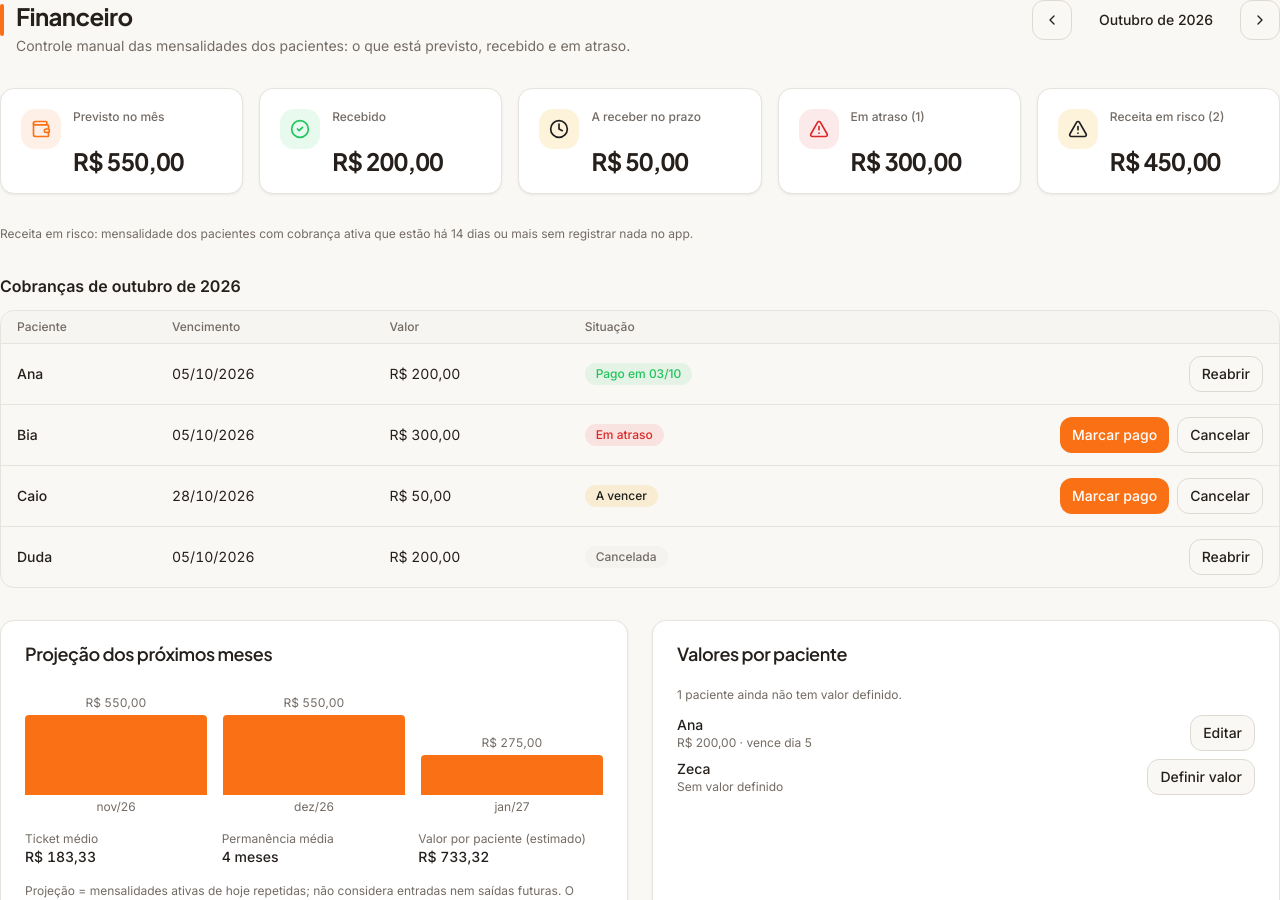
FinancePage › editar valor existente já vem preenchido
Click the button with aria-label "Editar valor de Ana" at [1223, 733], box [1190, 715, 1255, 751]
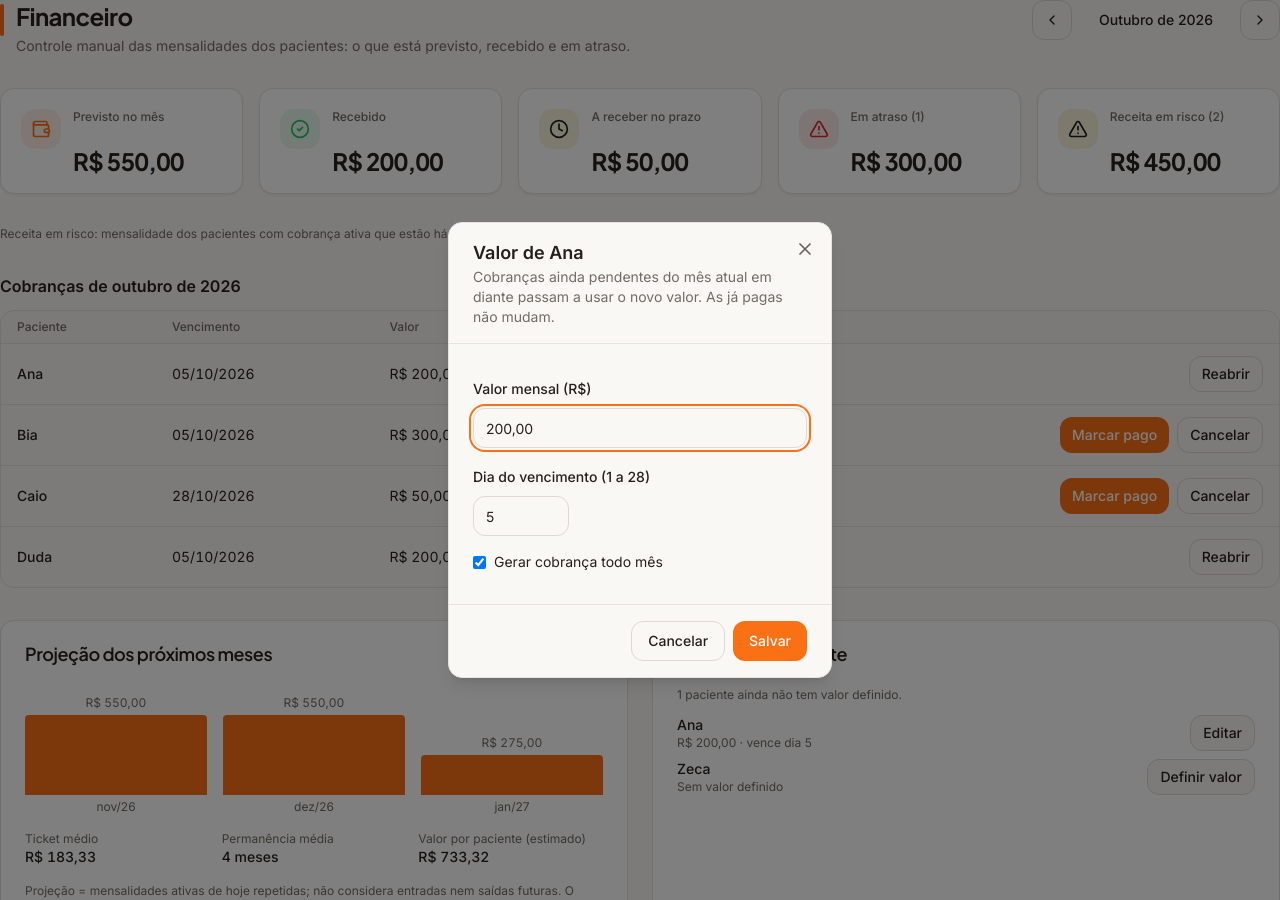
Now the field labelled "Valor mensal (R$)" holds "200,00", box [473, 408, 807, 448]
Now the field labelled "Dia do vencimento (1 a 28)" holds "5", box [473, 496, 569, 536]
